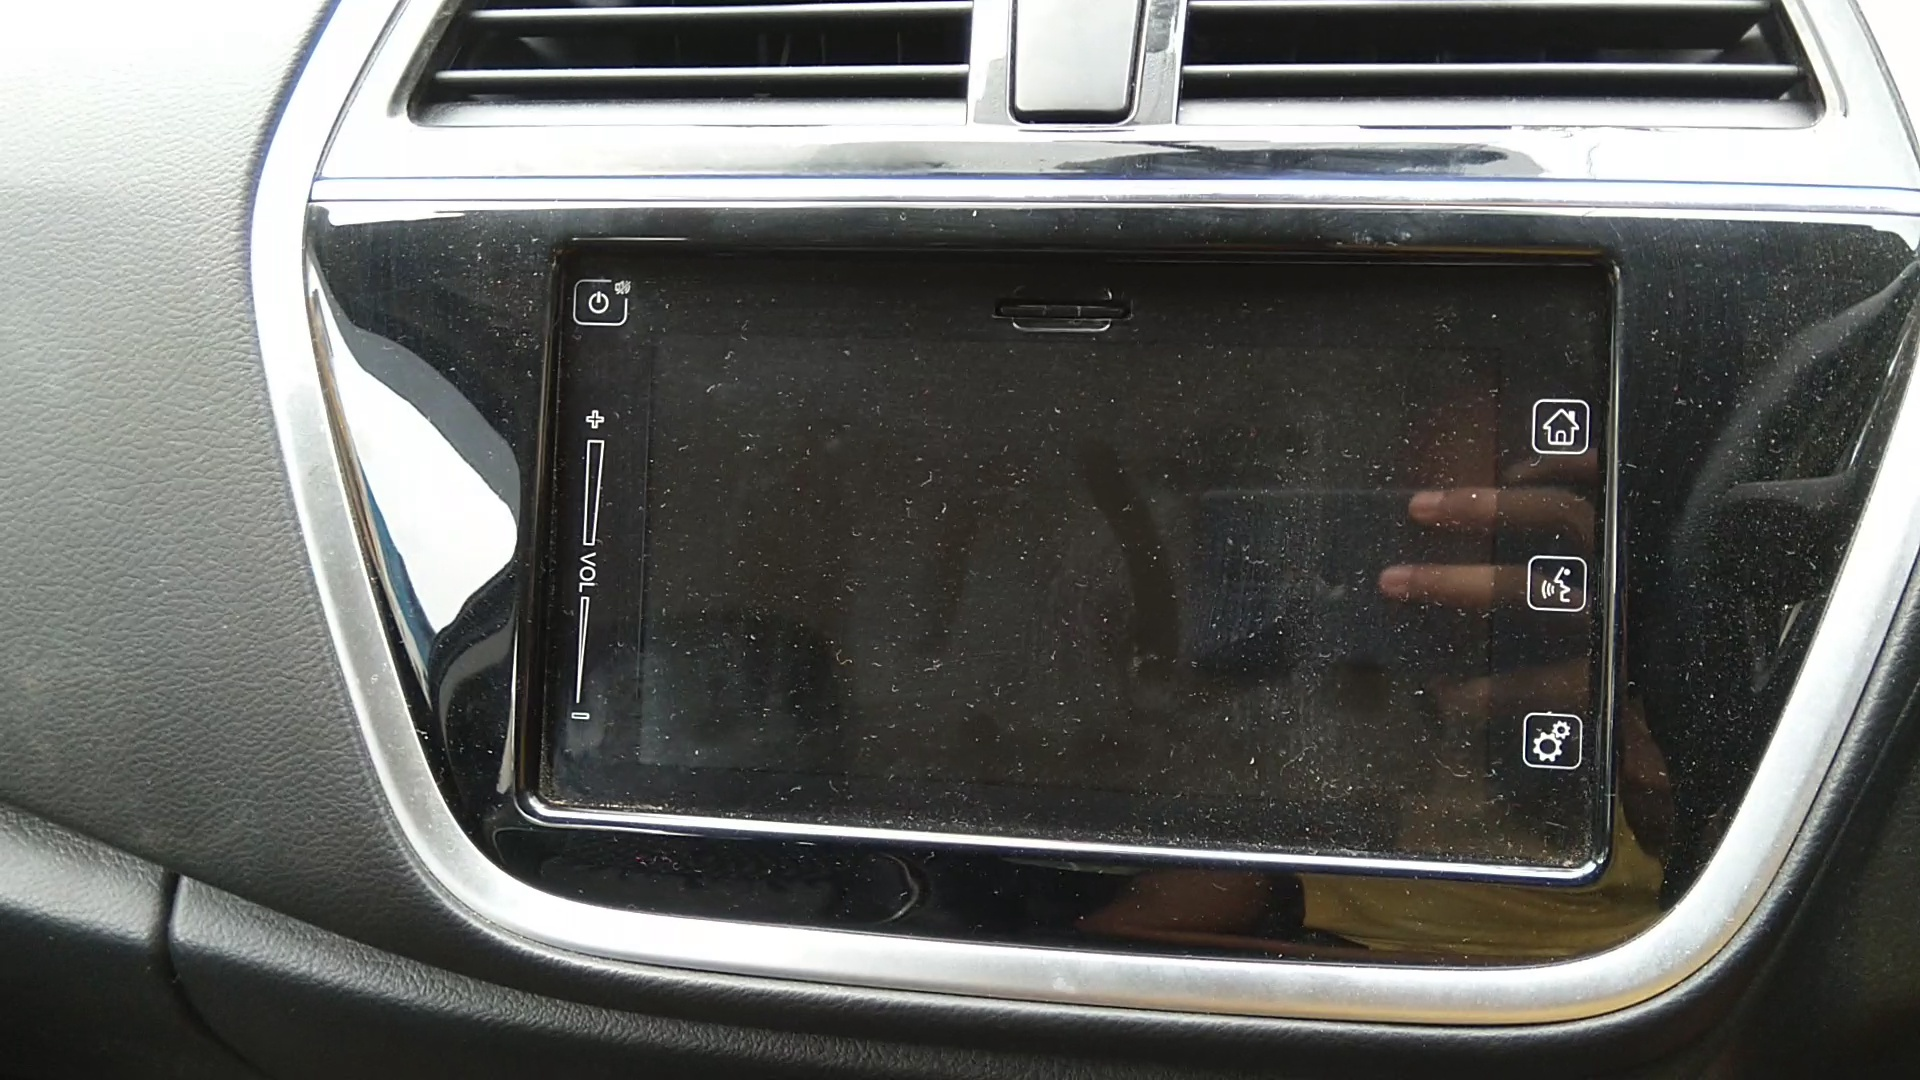touch_infotainment: (501, 215, 1639, 910)
